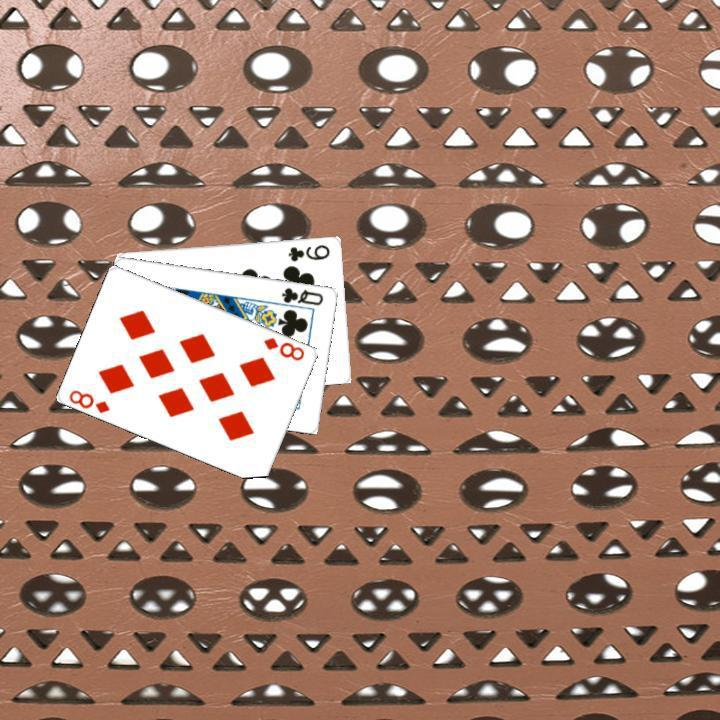8: (259, 333, 307, 363), (65, 385, 112, 415)
9: (284, 240, 332, 263)
Q: (277, 283, 325, 307)
